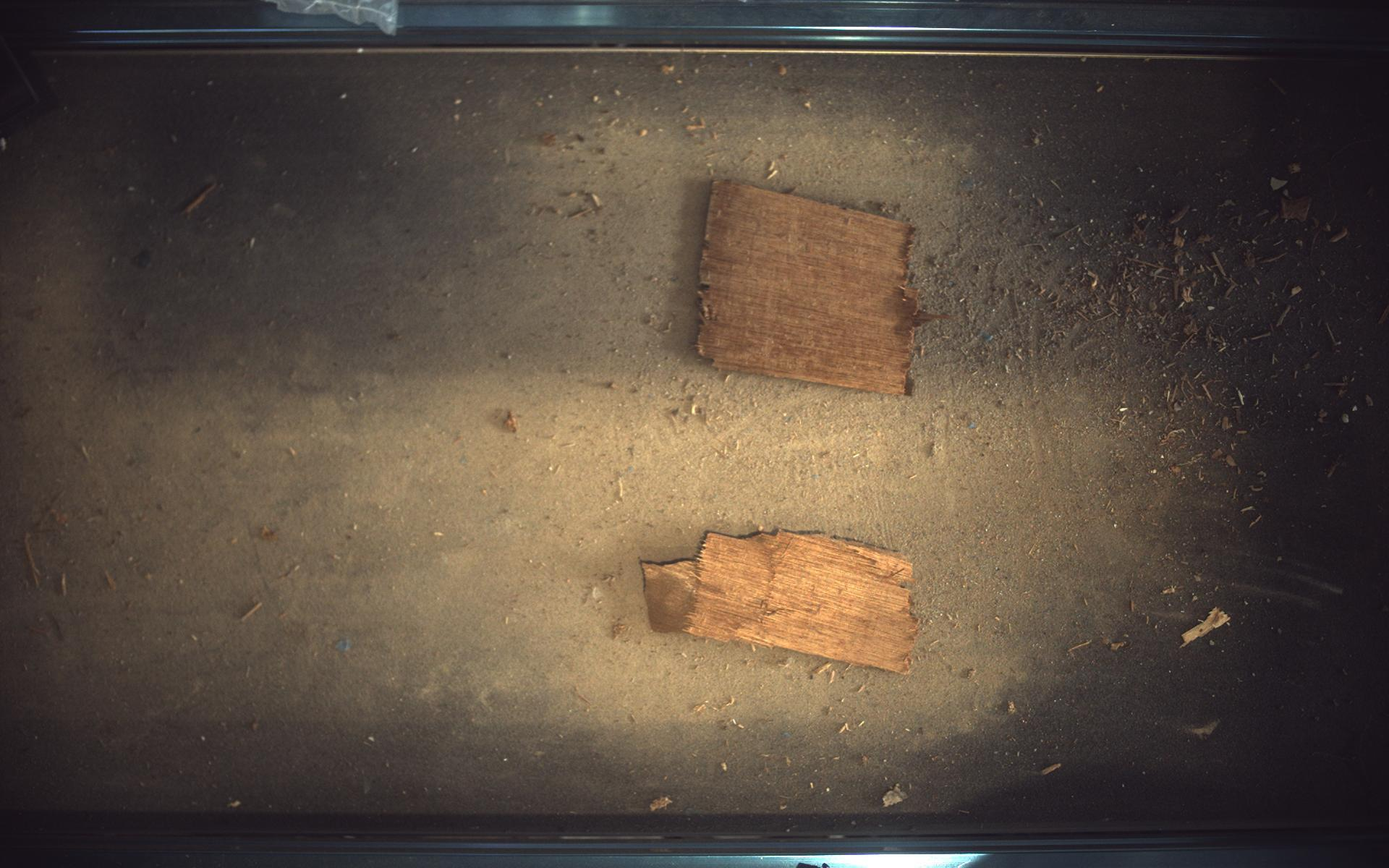wood: (698, 181, 943, 394), (643, 531, 921, 675)
